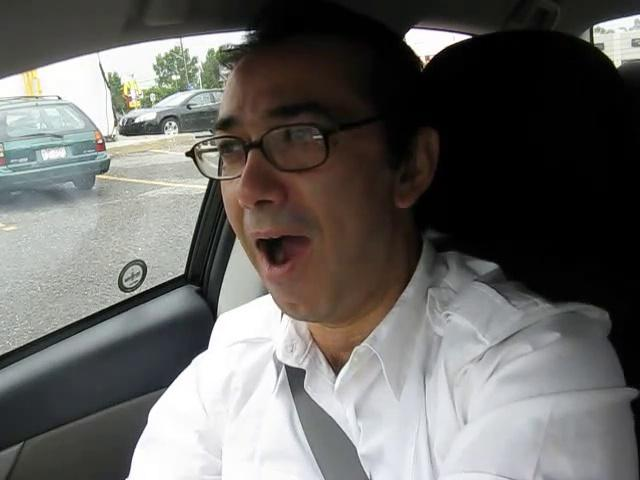open_eyeL: (189, 130, 261, 177)
open_eyeR: (260, 112, 346, 168)
yawn: (232, 215, 329, 282)
